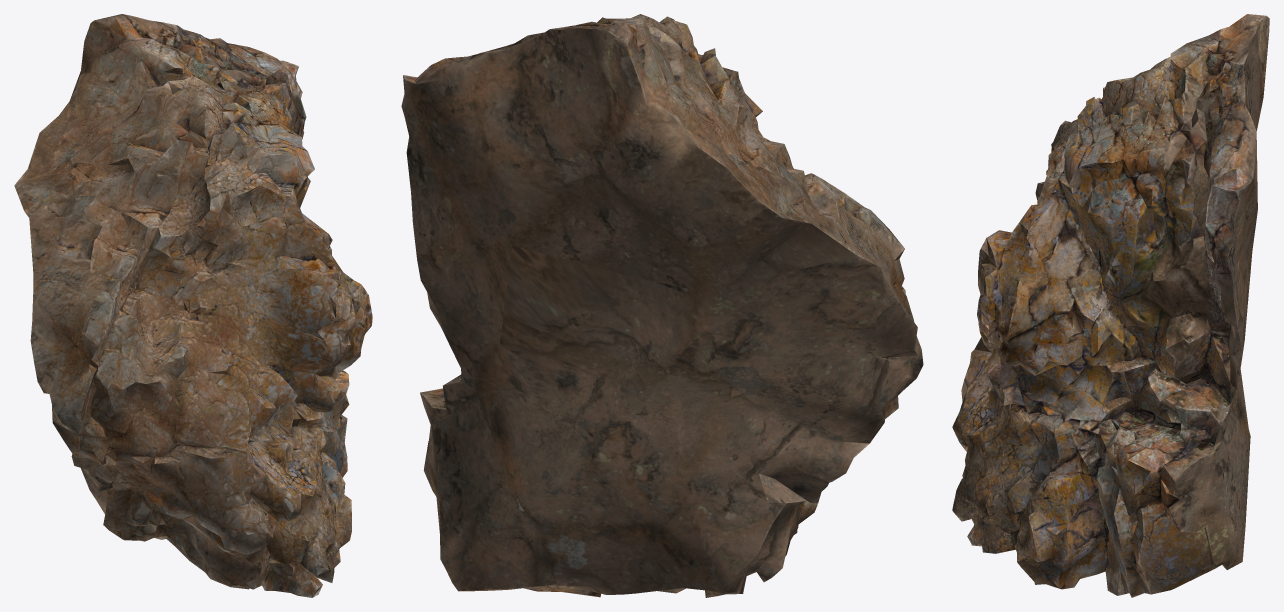
The model's file is kaya_dik.glb.
The picture shows the model from 3 angles, left to right: view 1: azimuth 30°, elevation 25°; view 2: azimuth 150°, elevation 25°; view 3: azimuth 270°, elevation 25°; orthographic projection. The views are drawn at different scales.
Parts seen in each view (by area): view 1: kaya_dik_lib; view 2: kaya_dik_lib; view 3: kaya_dik_lib.
Part boxes in pixels (x1=…): kaya_dik_lib: x1=14, y1=14, x2=372, y2=597; kaya_dik_lib: x1=401, y1=14, x2=923, y2=597; kaya_dik_lib: x1=952, y1=14, x2=1269, y2=597.
Size of the model in its own units: 1.69 by 2.4 by 1.31.
1 material, 1 textured.
